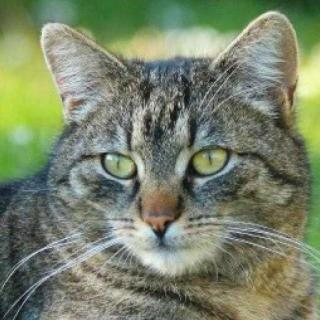cat: (36, 19, 306, 279)
nose: (134, 199, 193, 248)
